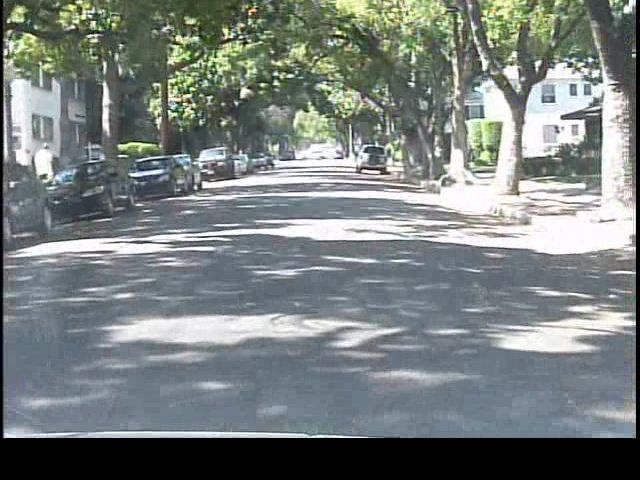person: (34, 138, 62, 203)
